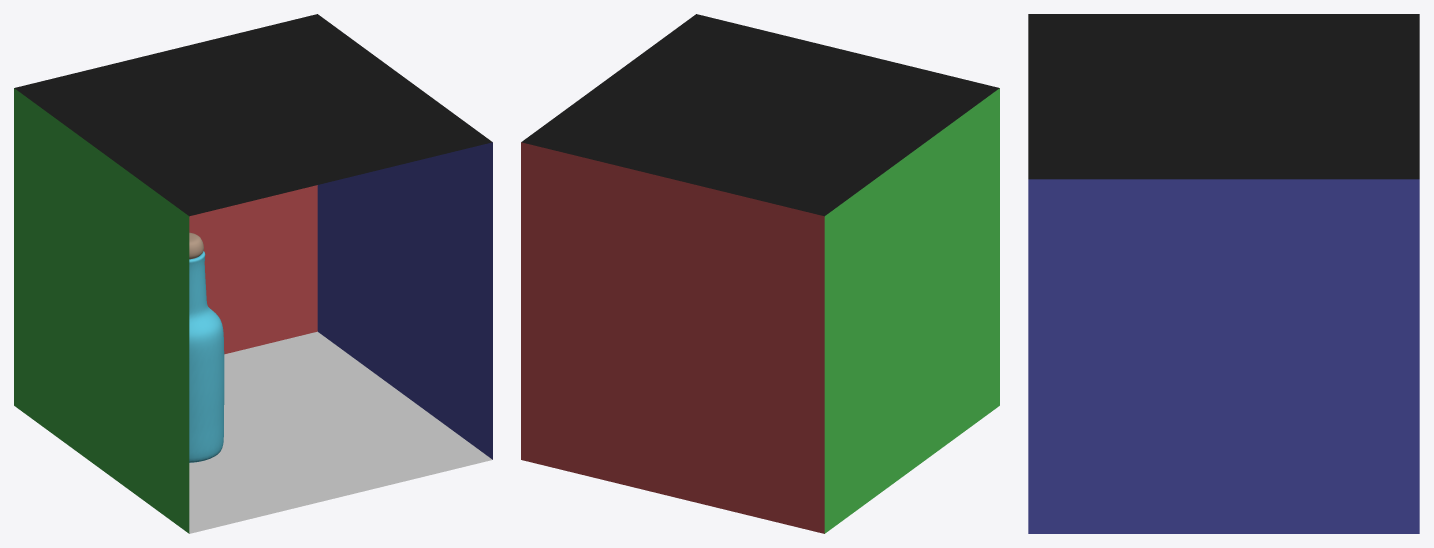
The model's file is CornellBottle.obj.
The picture shows the model from 3 angles, left to right: view 1: azimuth 30°, elevation 25°; view 2: azimuth 150°, elevation 25°; view 3: azimuth 270°, elevation 25°; orthographic projection. The views are drawn at different scales.
Parts seen in each view (by area): view 1: Box001, Box003, Box004, Box002, Box005, Line001; view 2: Box005, Box001, Box003; view 3: Box004, Box003.
Boxes of the visible parts, bbox=[...] form: Box001: bbox=[14, 88, 189, 533]; Box003: bbox=[14, 14, 492, 216]; Box004: bbox=[317, 142, 492, 459]; Box002: bbox=[189, 331, 492, 533]; Box005: bbox=[189, 185, 317, 354]; Line001: bbox=[189, 251, 224, 462]; Box005: bbox=[521, 142, 824, 533]; Box001: bbox=[824, 88, 999, 533]; Box003: bbox=[521, 14, 999, 216]; Box004: bbox=[1028, 179, 1419, 533]; Box003: bbox=[1028, 14, 1419, 179].
Bounding box in the file's own units: 2 × 2 × 2.
